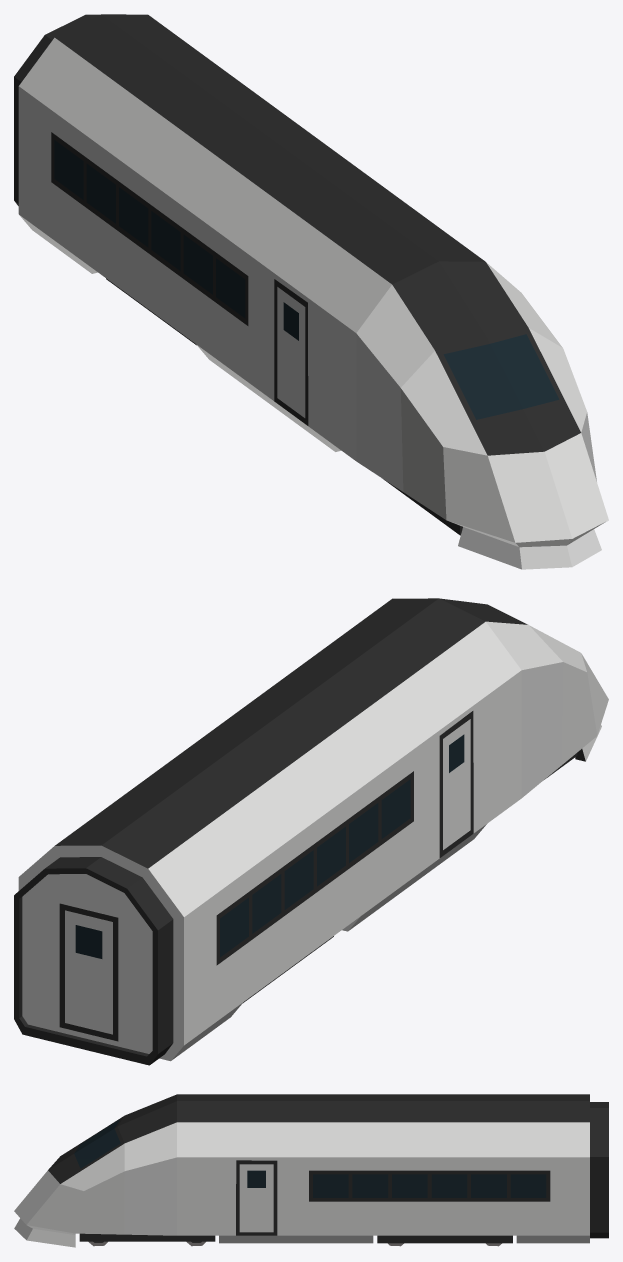
The model's file is train-speed.glb.
The picture shows the model from 3 angles, top to bottom: view 1: azimuth 30°, elevation 25°; view 2: azimuth 150°, elevation 25°; view 3: azimuth 270°, elevation 25°; orthographic projection. The views are drawn at different scales.
Parts seen in each view (by area): view 1: train-speed-base; view 2: train-speed-base; view 3: train-speed-base, train-speed-wheel-frame_B, train-speed-wheel-frame_F.
Boxes of the visible parts, x1=… form: train-speed-base: x1=14, y1=14, x2=608, y2=569; train-speed-base: x1=14, y1=598, x2=608, y2=1065; train-speed-base: x1=14, y1=1094, x2=608, y2=1247; train-speed-wheel-frame_B: x1=377, y1=1235, x2=512, y2=1243; train-speed-wheel-frame_F: x1=79, y1=1233, x2=215, y2=1241.
Size of the model in its own units: 3.1 by 3.92 by 15.79.
Materials: 1 (1 with a texture image).
